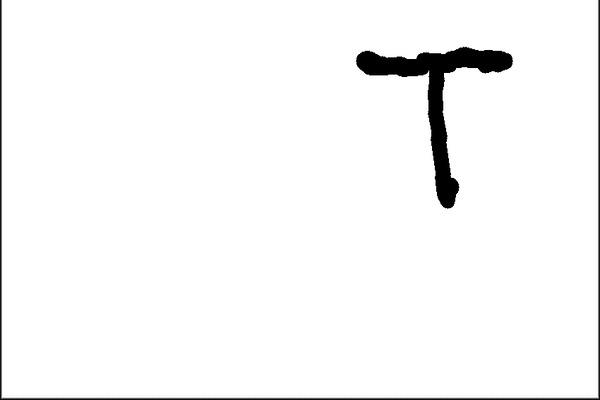T: (358, 36, 512, 213)
